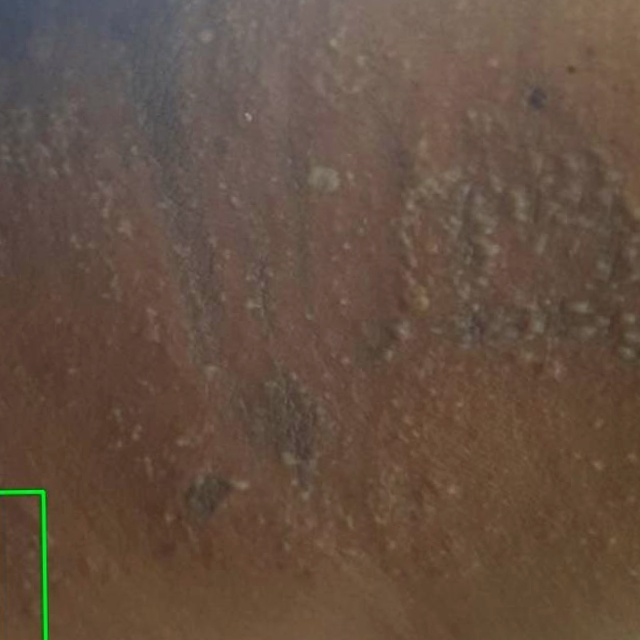Contact Dermatitis: (0, 491, 45, 639)
